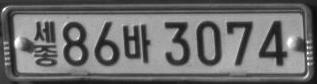0: (195, 19, 222, 67)
3: (164, 20, 190, 66)
4: (258, 19, 288, 66)
6: (93, 21, 120, 67)
7: (226, 21, 253, 66)
8: (62, 20, 88, 67)
바: (122, 23, 151, 64)
세종_V: (32, 20, 59, 67)
